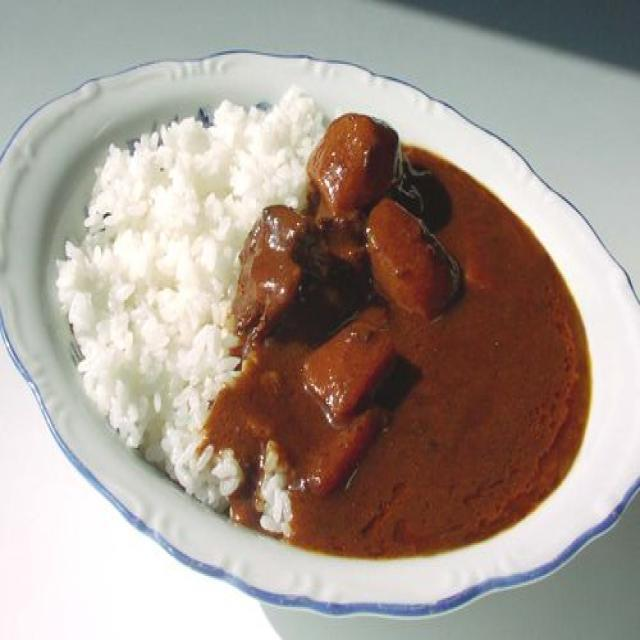Beef Curry: (0, 21, 401, 363)
